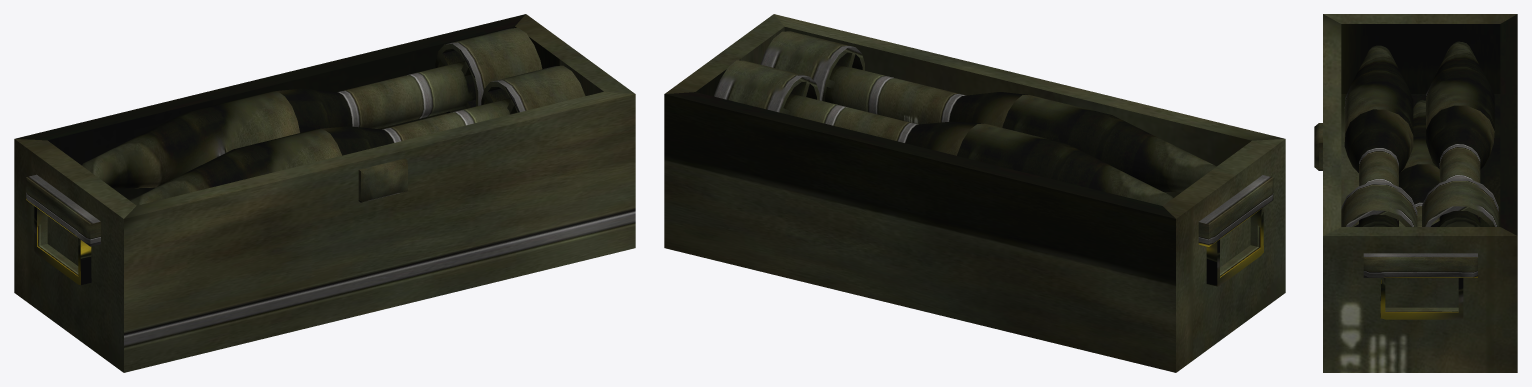
File: rocketBox.obj
3 renders of one model, left to right at view 1: azimuth 30°, elevation 25°; view 2: azimuth 150°, elevation 25°; view 3: azimuth 270°, elevation 25°, orthographic. The views are drawn at different scales.
Visible parts, largest first — view 1: whole; view 2: whole; view 3: whole.
Boxes of the visible parts, bbox=[...] form: whole: bbox=[14, 14, 635, 372]; whole: bbox=[664, 14, 1285, 372]; whole: bbox=[1314, 14, 1517, 372].
Size of the model in its own units: 44.61 by 13.44 by 16.39.
1 material, 1 textured.
